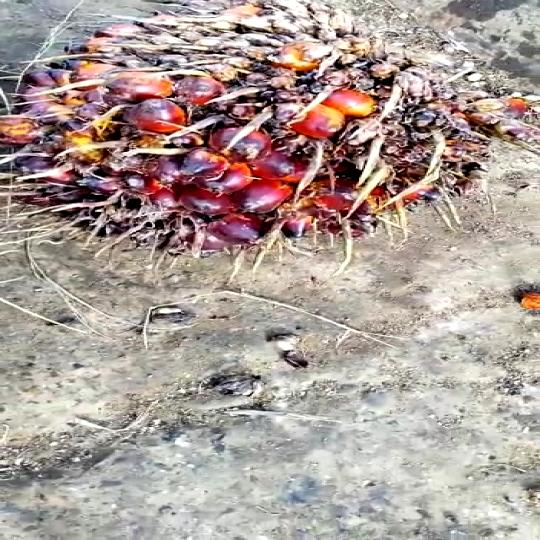masak: (0, 0, 529, 256)
